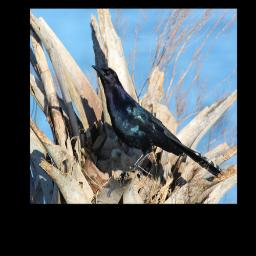Crow: (91, 65, 221, 186)
